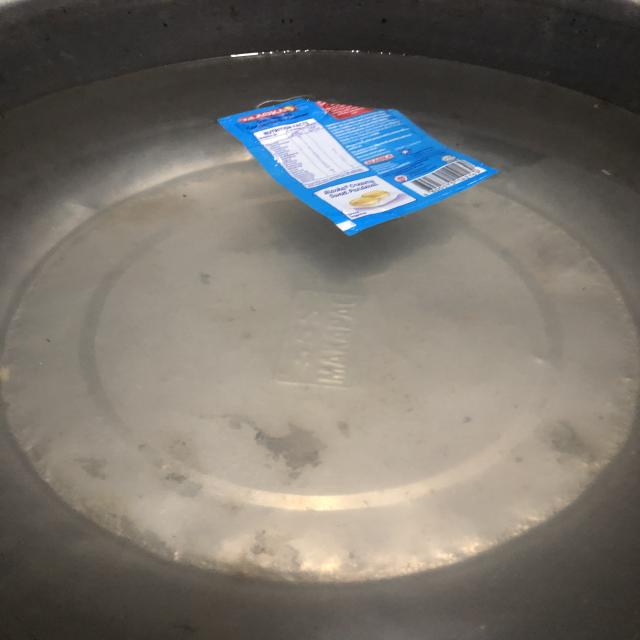Plastic Wrapper: (199, 71, 540, 254)
